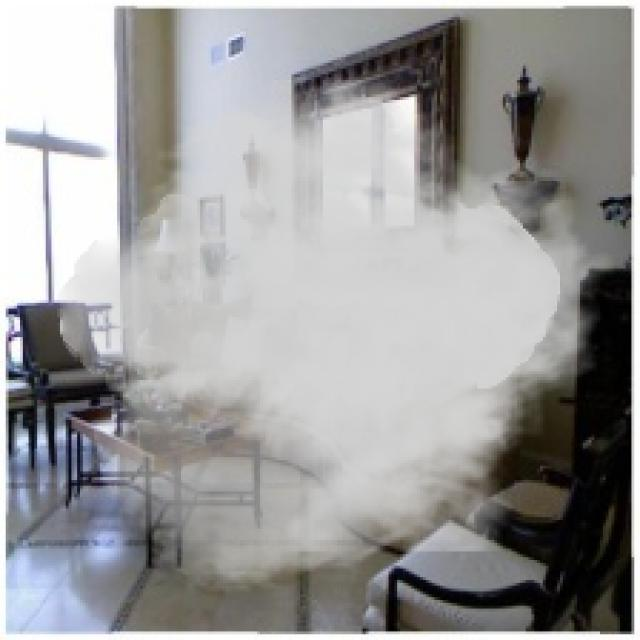Smoke: (57, 68, 617, 598)
